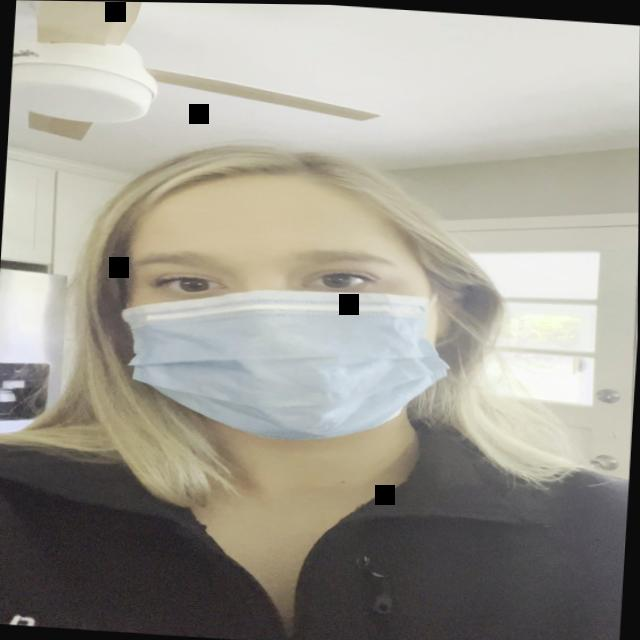Mask: (81, 159, 497, 472)
